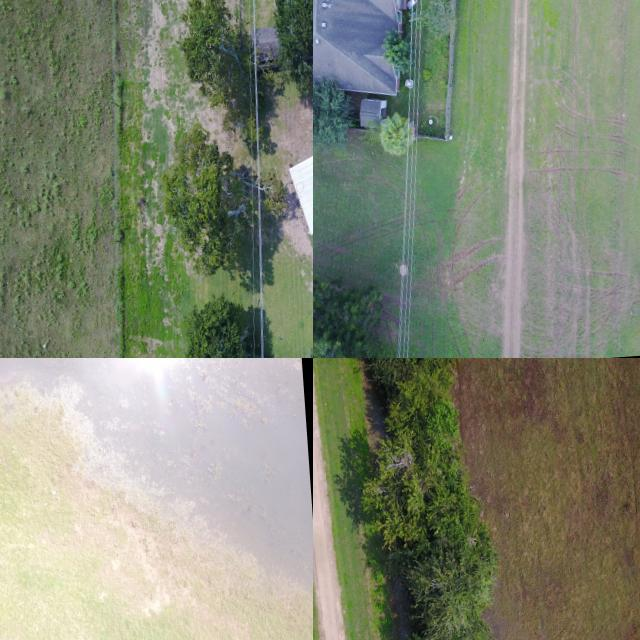fire: (0, 358, 313, 593)
